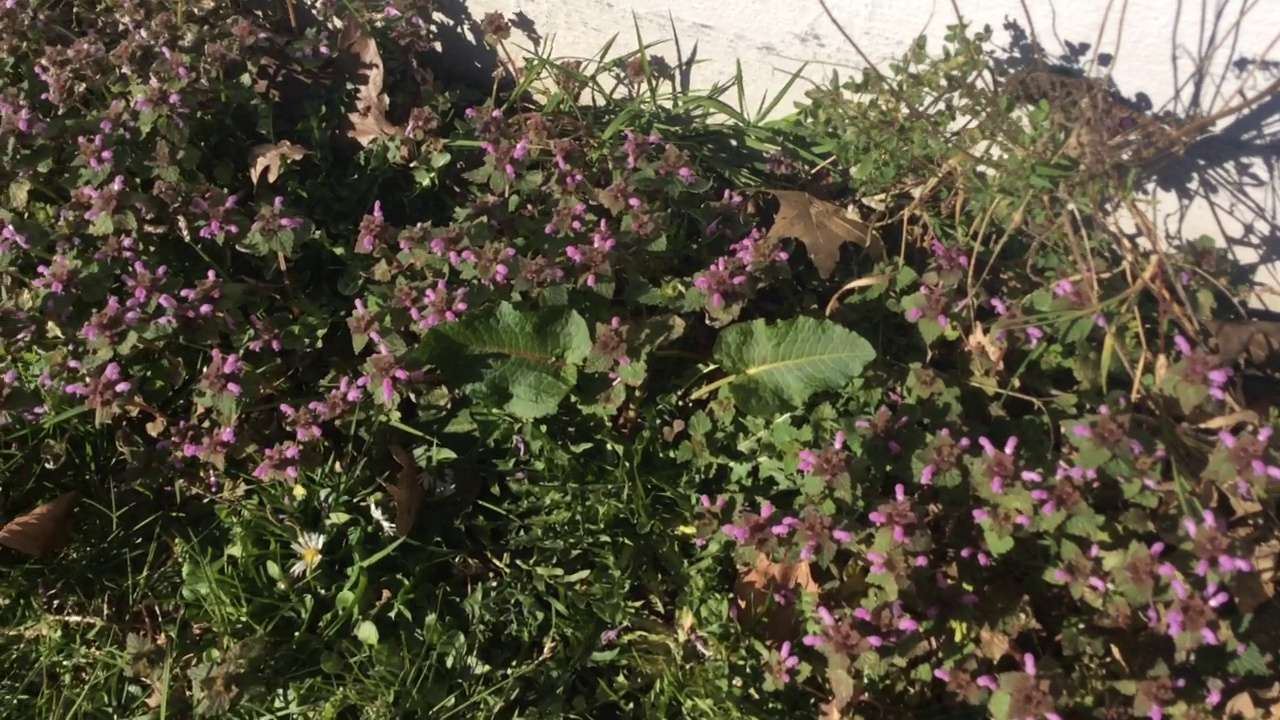rumex: (393, 299, 876, 423)
